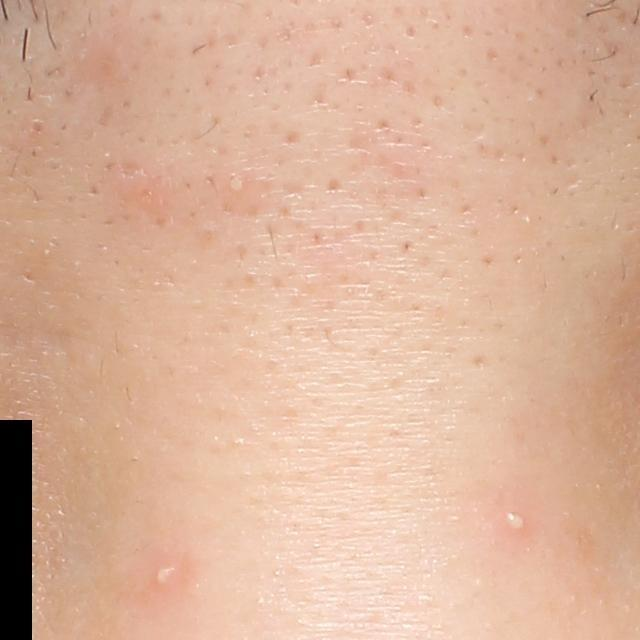pustule: (488, 499, 541, 540), (149, 562, 184, 589)
